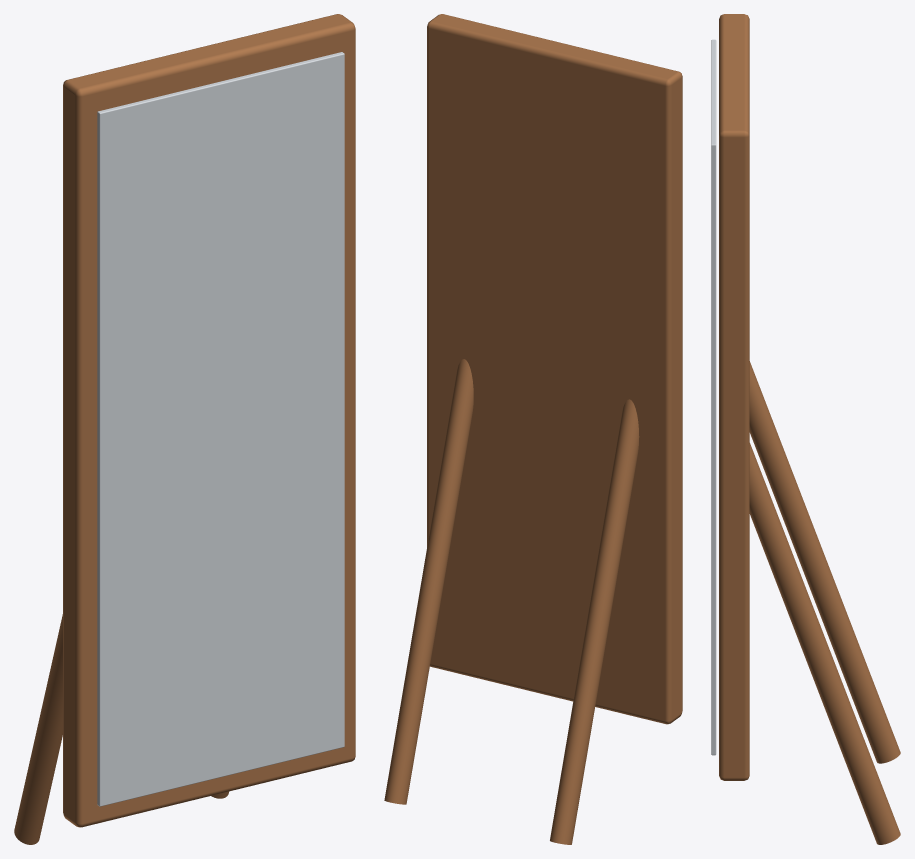
File: wp-miroir-de-boutique.glb
3 views of the same model, side by side, from view 1: azimuth 30°, elevation 25°; view 2: azimuth 150°, elevation 25°; view 3: azimuth 270°, elevation 25° (orthographic). The views are drawn at different scales.
Parts seen in each view (by area): view 1: wp-miroir-de-boutique; view 2: wp-miroir-de-boutique; view 3: wp-miroir-de-boutique.
Part boxes in pixels (x1,y1,x2,y2): wp-miroir-de-boutique: [14, 14, 355, 844]; wp-miroir-de-boutique: [384, 14, 682, 844]; wp-miroir-de-boutique: [711, 14, 900, 844].
Size of the model in its own units: 0.6 by 1.7 by 0.4.
